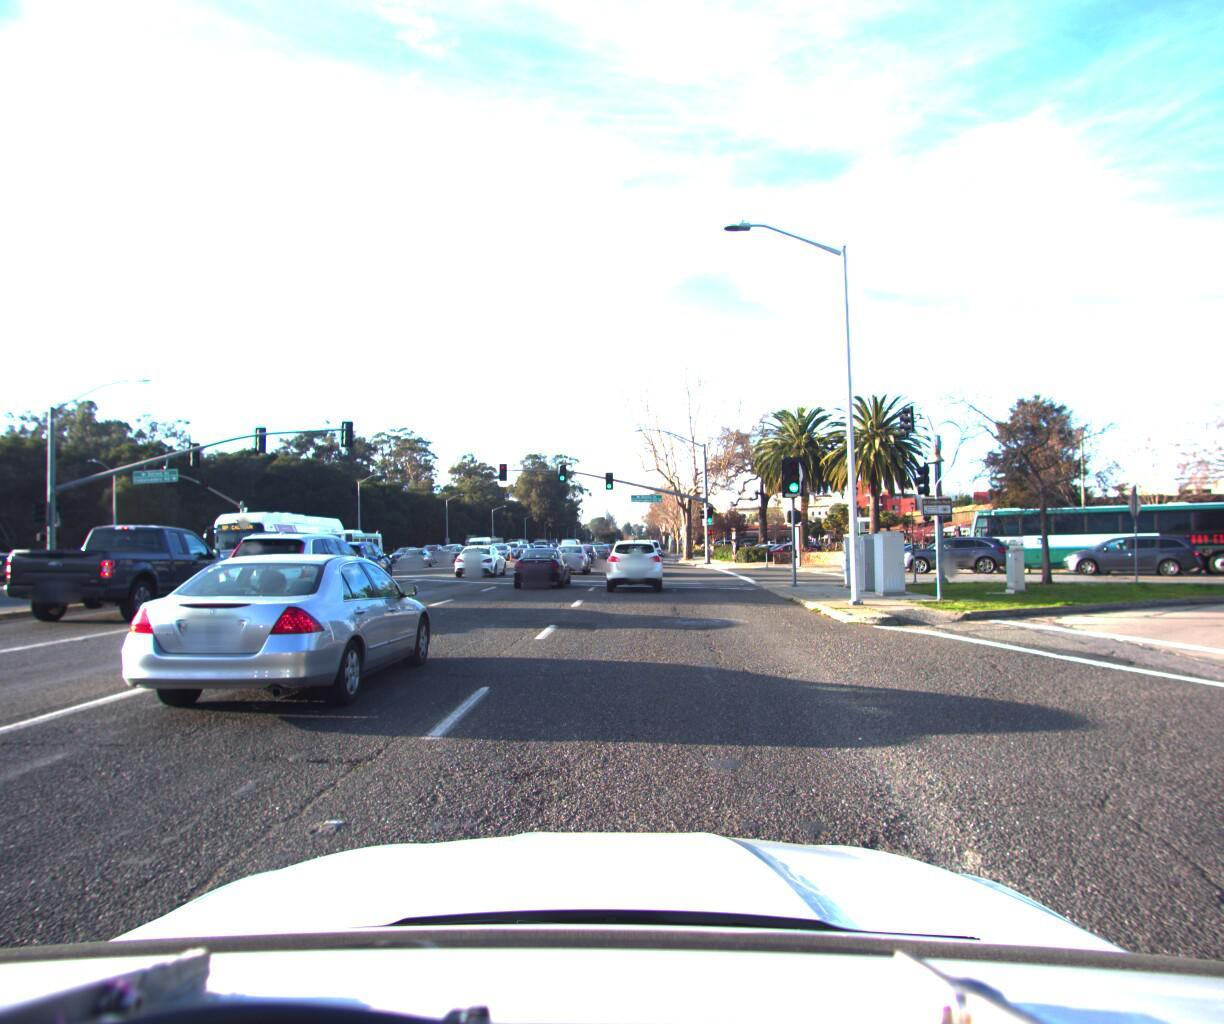bus: (954, 487, 1224, 573), (204, 504, 349, 584), (314, 522, 390, 564)
car: (121, 544, 442, 733), (219, 524, 386, 623), (1054, 525, 1202, 571), (312, 525, 409, 583), (892, 527, 1009, 569), (195, 546, 287, 587), (605, 531, 668, 590), (513, 537, 574, 584), (456, 531, 508, 573), (550, 534, 593, 570), (759, 535, 819, 556), (391, 543, 433, 565), (467, 538, 499, 558), (592, 535, 615, 555)
